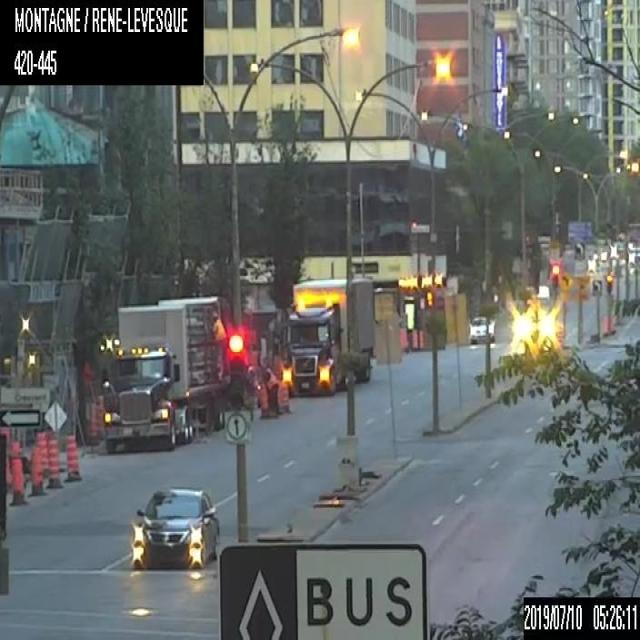construction: (65, 432, 80, 479), (47, 438, 61, 486), (30, 446, 43, 494), (11, 456, 23, 503), (258, 382, 271, 414), (276, 382, 289, 414), (398, 328, 406, 351), (411, 328, 417, 348), (418, 328, 424, 348)
vehicle: (101, 292, 226, 452), (280, 276, 370, 395), (129, 486, 217, 570), (468, 315, 496, 341)
